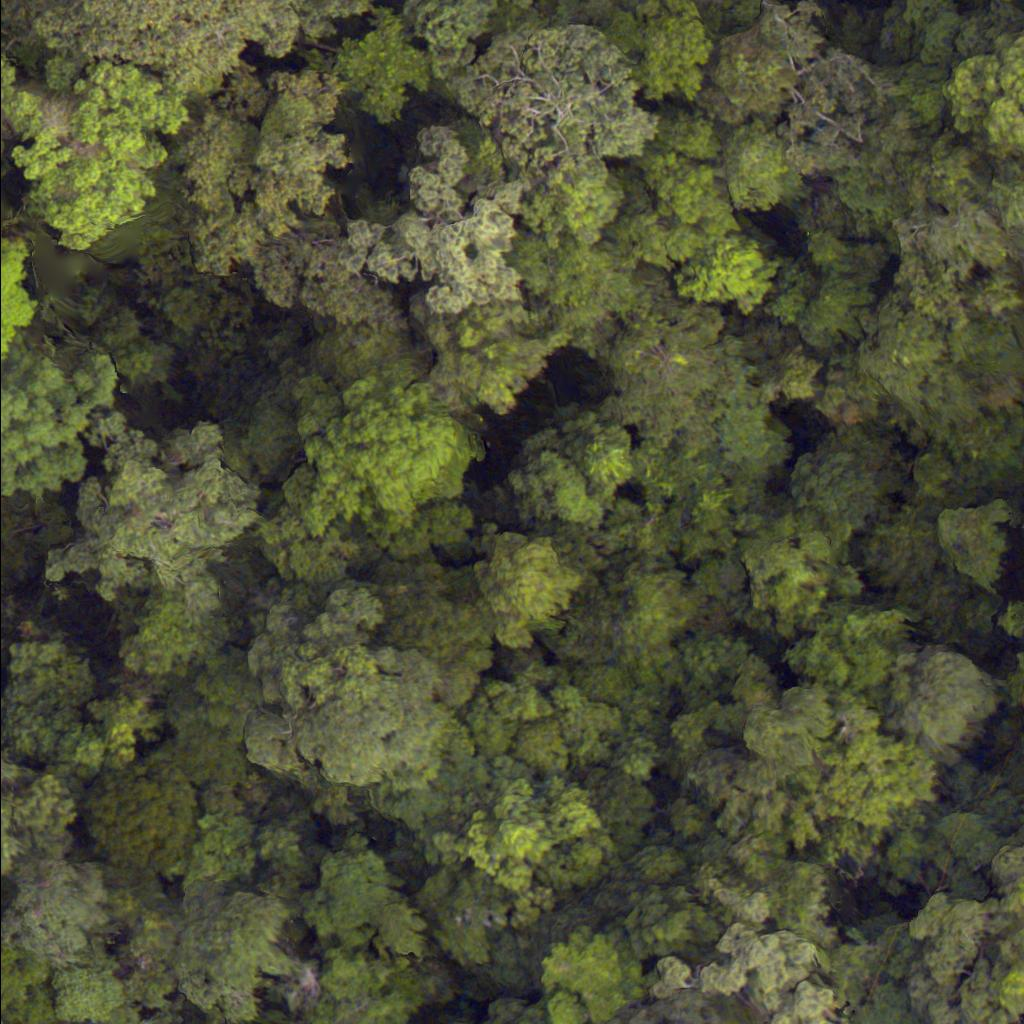crown: (259, 360, 479, 583), (40, 411, 268, 618), (8, 64, 186, 251), (282, 642, 458, 793), (36, 0, 299, 98), (907, 841, 1023, 1023), (0, 338, 118, 505), (816, 706, 935, 835), (696, 926, 852, 1023), (307, 838, 427, 955), (473, 531, 579, 646), (0, 860, 110, 970), (891, 645, 994, 754), (539, 928, 645, 1023), (53, 968, 127, 1023), (610, 989, 725, 1023), (0, 753, 25, 877), (500, 1016, 551, 1023), (141, 1023, 142, 1023)
